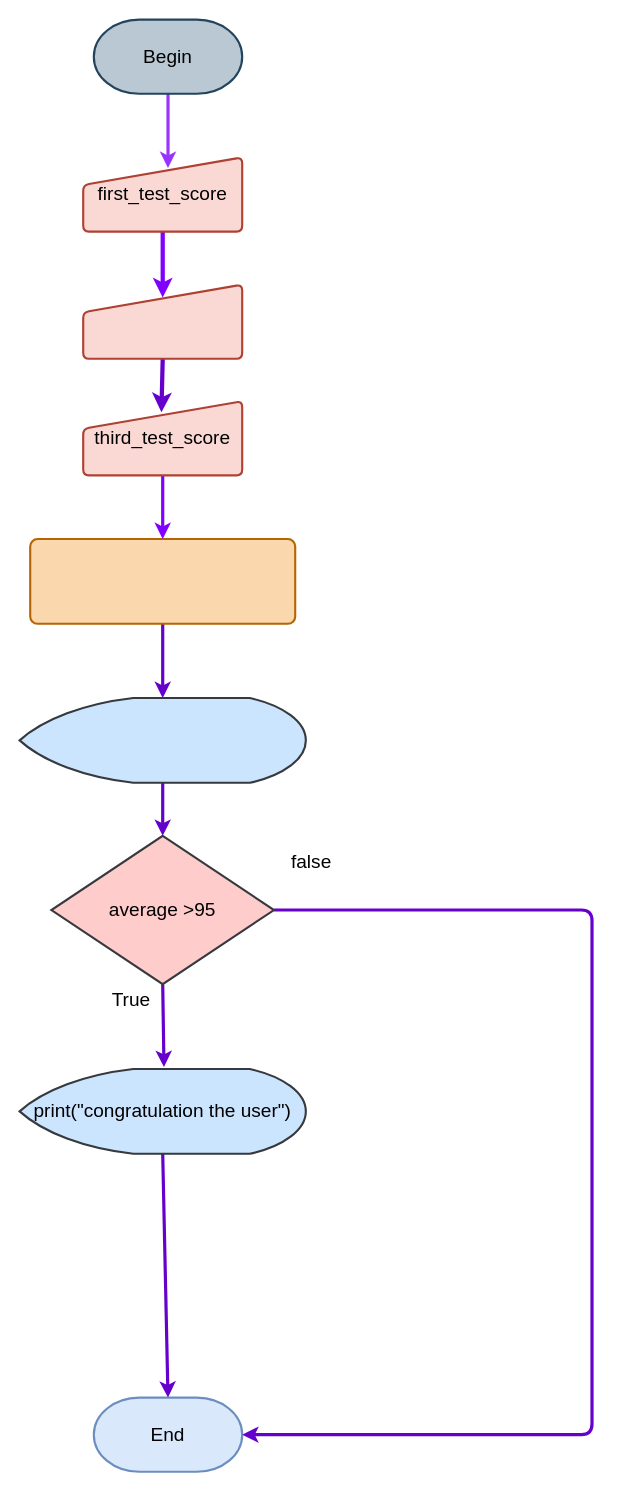
This 620x1490 diagram has some shape labels left out. Here are the shapes that lost their labels. From the top down, the centre of each, then its label:
(x=162, y=321): second_test_score
(x=162, y=580): average = (first_test_score + second_test_score + third_test_score) / 3
(x=162, y=739): print(" your averege score is : ")
